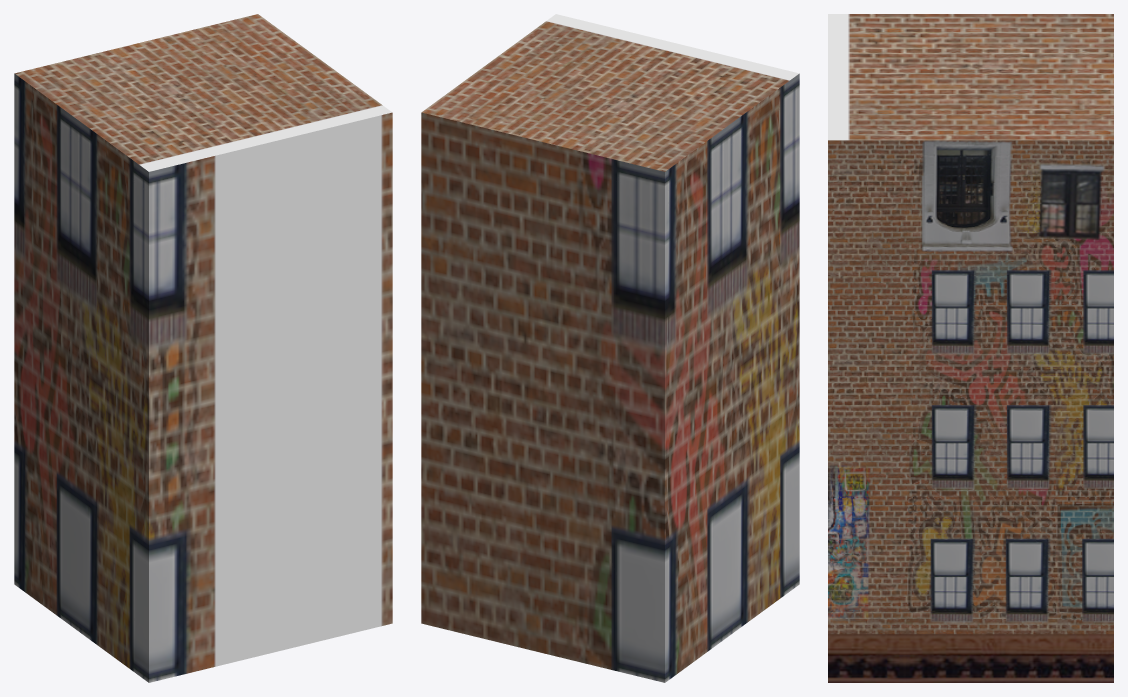
Rendered from building2fbx.fbx.
3 renders of one model, left to right at view 1: azimuth 30°, elevation 25°; view 2: azimuth 150°, elevation 25°; view 3: azimuth 270°, elevation 25°, orthographic. The views are drawn at different scales.
Parts seen in each view (by area): view 1: Cube.002; view 2: Cube.002; view 3: Cube.002.
Part boxes in pixels (bbox=[...]): Cube.002: bbox=[14, 14, 392, 682]; Cube.002: bbox=[421, 14, 799, 682]; Cube.002: bbox=[828, 14, 1113, 682].
Bounding box in the file's own units: 482 × 966 × 461.
